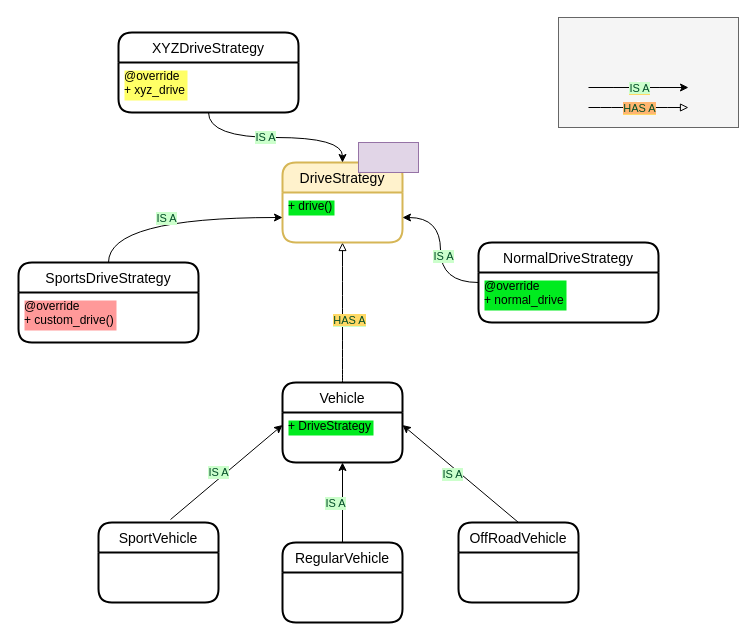
The diagram is 756 pixels wide and 641 high, and some of its shapes have lost their labels. The centre of each missing label's shape, as x and y in pixels:
Interface: (388,157)
Legends: (648,72)
